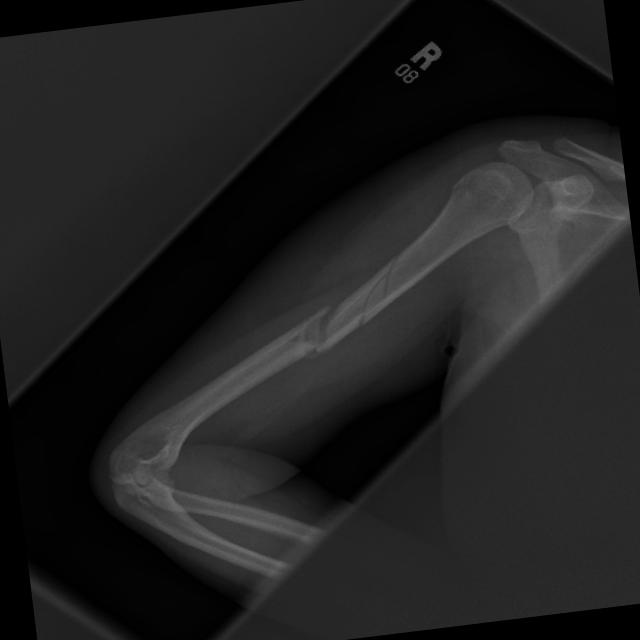humerus fracture: (238, 241, 424, 404)
